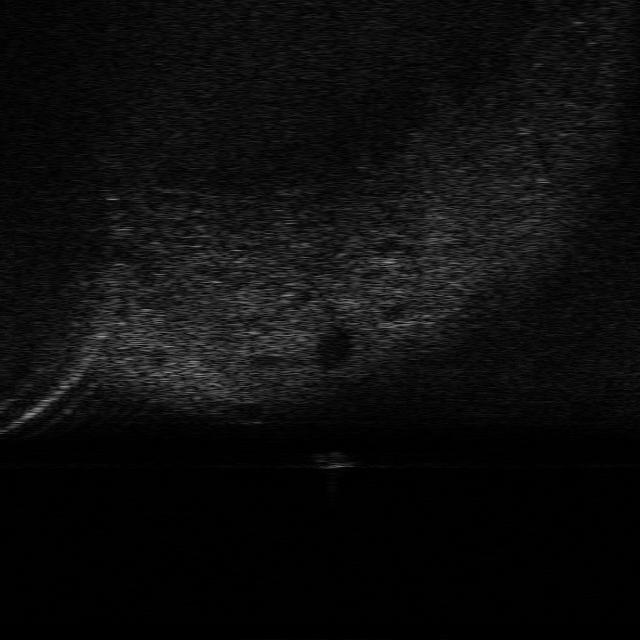cube: (312, 449, 356, 469)
